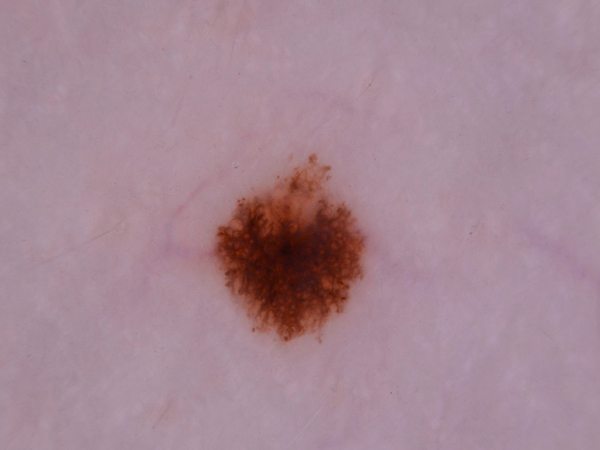Detected Lesion: (207, 151, 371, 350)
